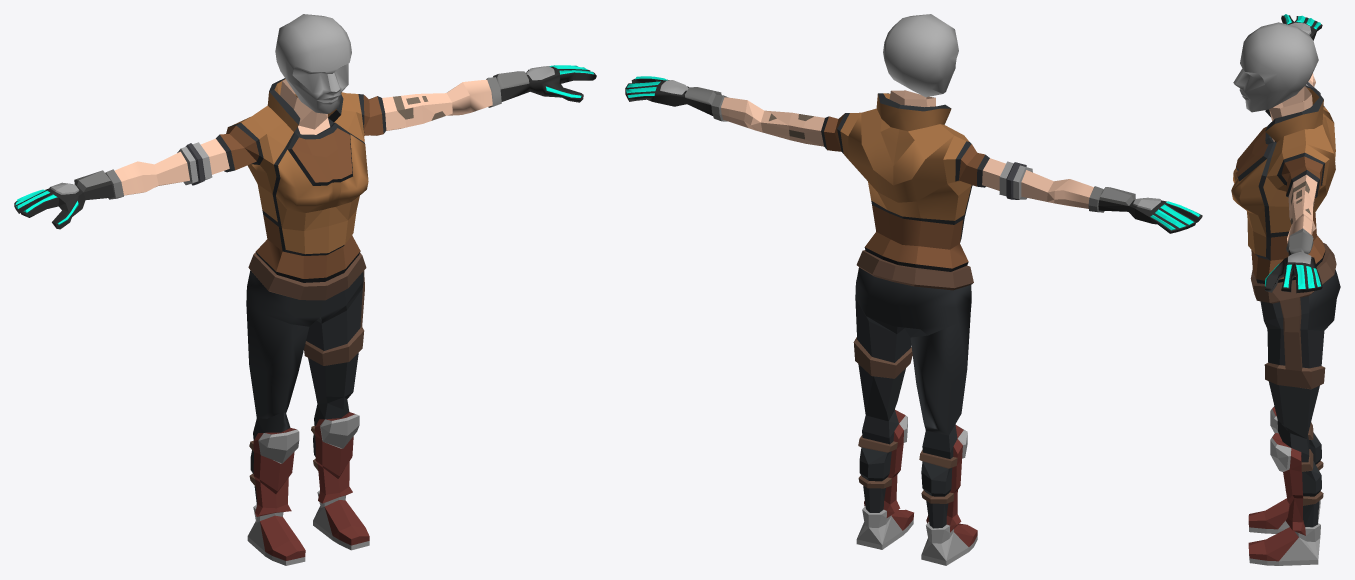
The model's file is Hacker girl.fbx.
The picture shows the model from 3 angles, left to right: view 1: azimuth 30°, elevation 25°; view 2: azimuth 150°, elevation 25°; view 3: azimuth 270°, elevation 25°; orthographic projection.
Visible parts, largest first — view 1: Character_Hacker_Female_02, pSphere2; view 2: Character_Hacker_Female_02, pSphere2; view 3: Character_Hacker_Female_02, pSphere2.
Part boxes in pixels (x1=…): Character_Hacker_Female_02: x1=14, y1=65, x2=596, y2=565; pSphere2: x1=275, y1=14, x2=351, y2=113; Character_Hacker_Female_02: x1=625, y1=76, x2=1202, y2=565; pSphere2: x1=883, y1=14, x2=958, y2=97; Character_Hacker_Female_02: x1=1231, y1=14, x2=1340, y2=565; pSphere2: x1=1233, y1=22, x2=1318, y2=112.
Bounding box in the file's own units: 204 × 180 × 34.41.
Materials: 2 (1 with a texture image).
